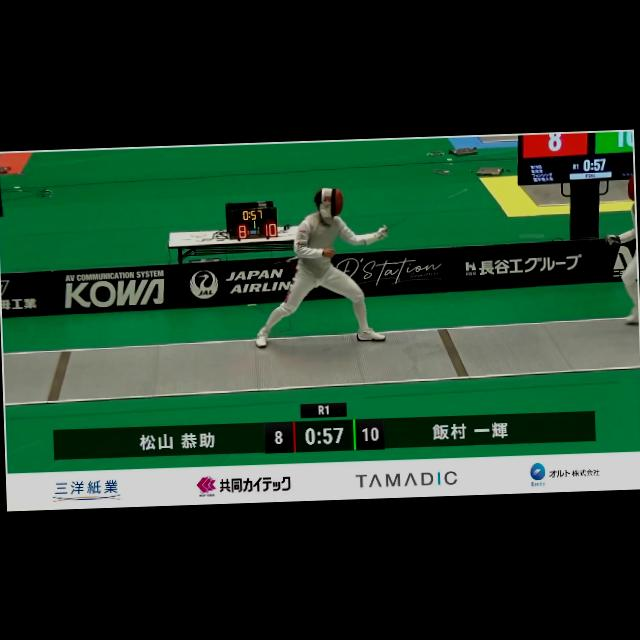blade: (374, 186, 468, 239), (518, 226, 622, 252)
